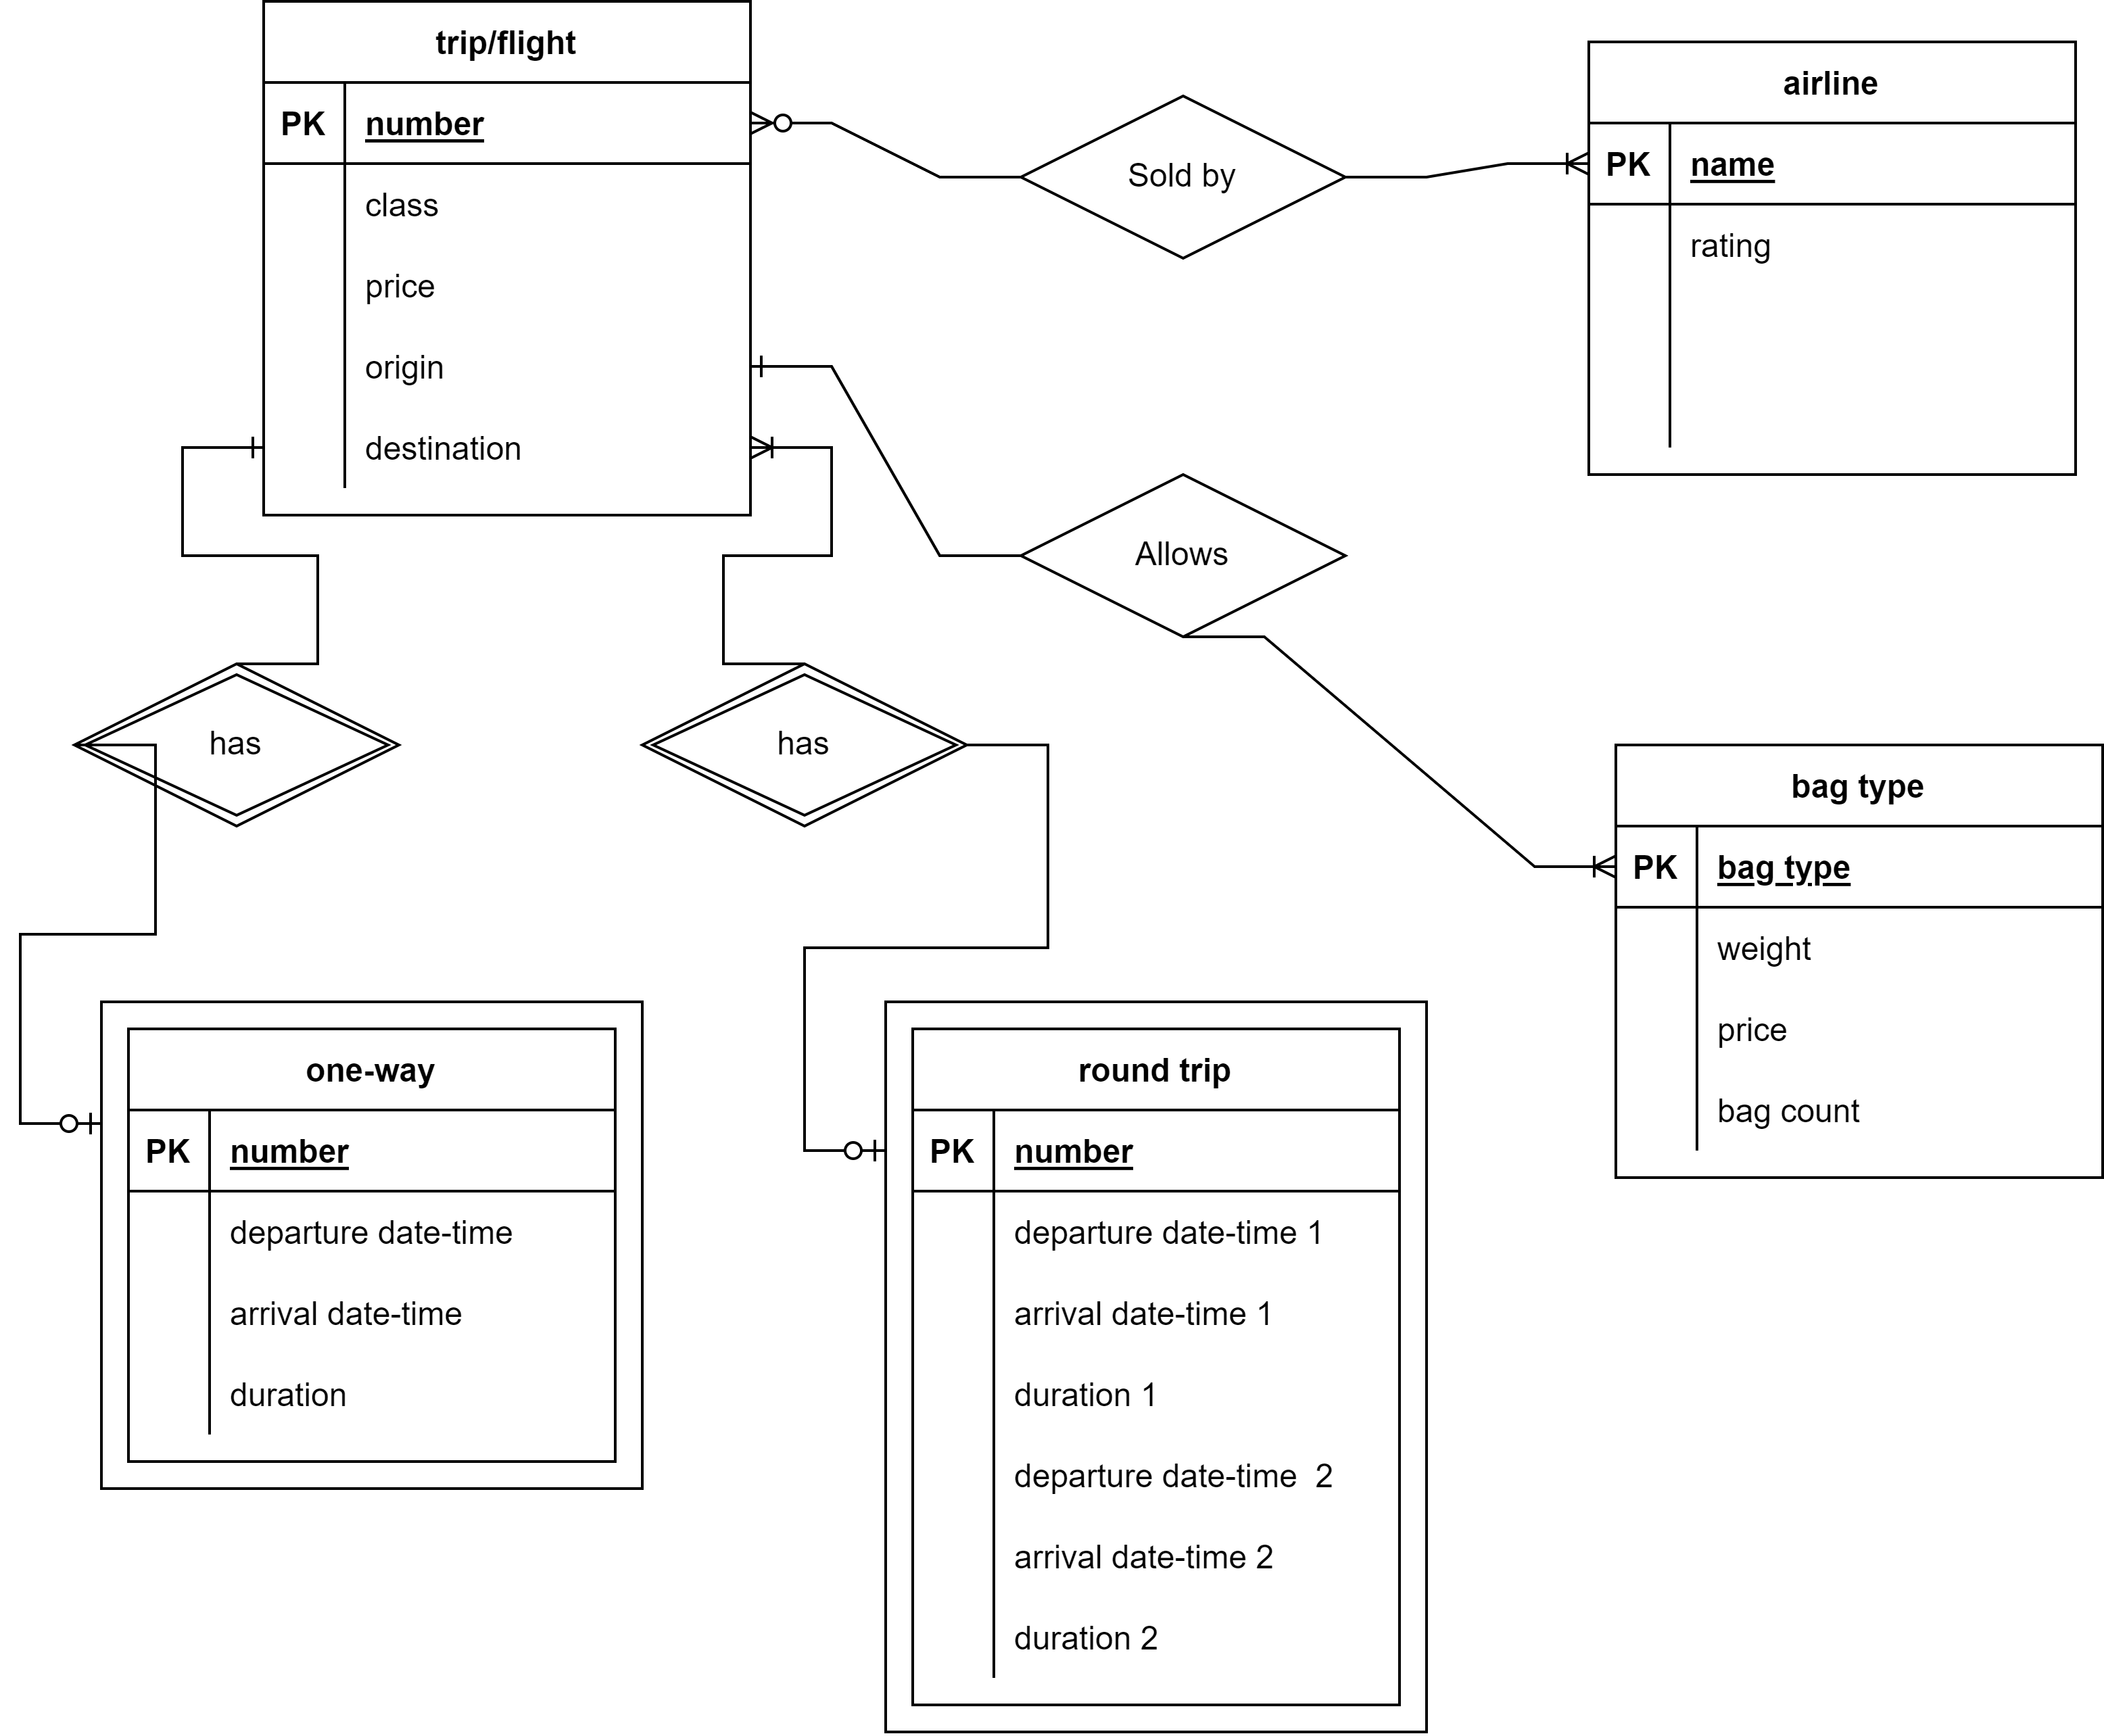entity: (262, 0, 755, 515), (1616, 742, 2104, 1179), (1588, 42, 2078, 475)
ident_rel: (638, 665, 972, 828), (77, 665, 400, 824)
many: (755, 105, 828, 141), (1534, 852, 1616, 882), (753, 433, 830, 461), (1512, 154, 1590, 175)
one: (17, 1107, 101, 1144), (748, 353, 830, 386), (180, 437, 264, 463), (800, 1142, 884, 1163)
rel: (1021, 93, 1344, 260), (1026, 473, 1347, 634)
weak_entity: (888, 1001, 1431, 1736), (103, 1002, 647, 1491)
